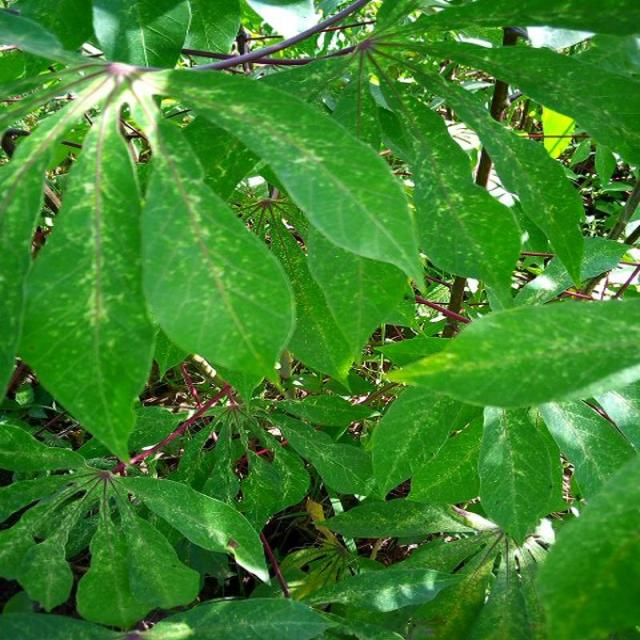cassava leaf: (16, 97, 158, 464), (138, 115, 296, 402), (380, 296, 639, 410)
